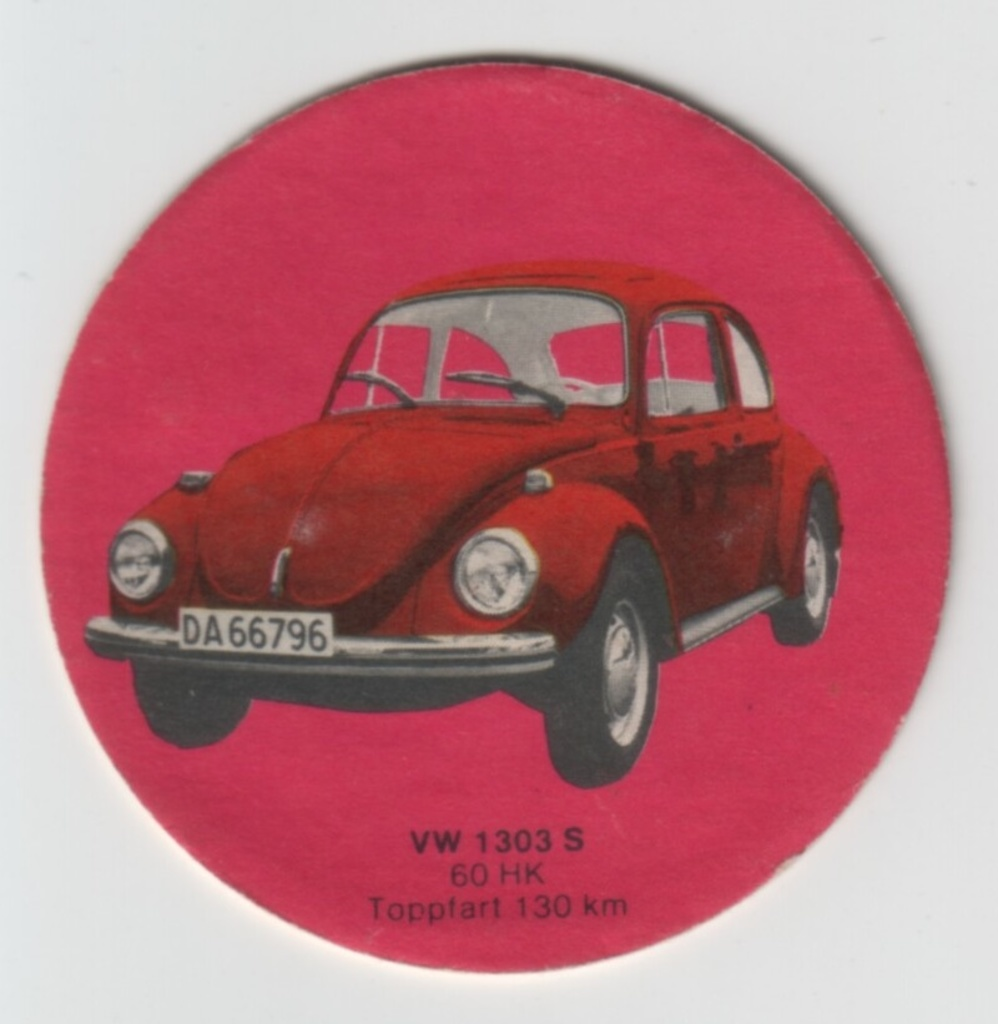Car: (79, 251, 853, 790)
